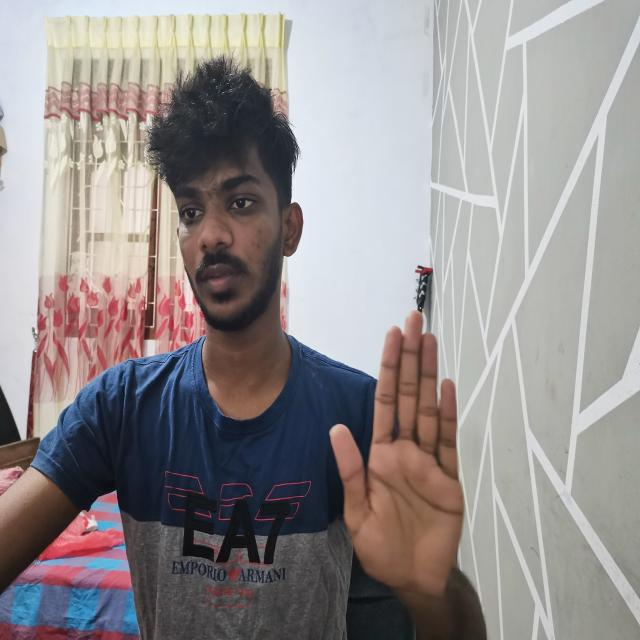Hello: (324, 302, 474, 596)
